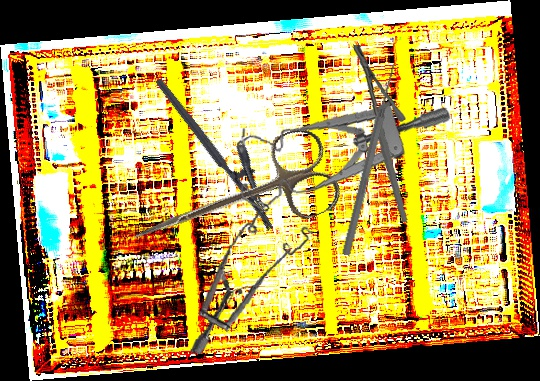Iris Scissors: (119, 122, 346, 282)
Needle Holder: (153, 61, 296, 233), (339, 44, 421, 223)
Pusher: (340, 61, 400, 257)
Speculum: (230, 83, 452, 229), (190, 195, 316, 365)
